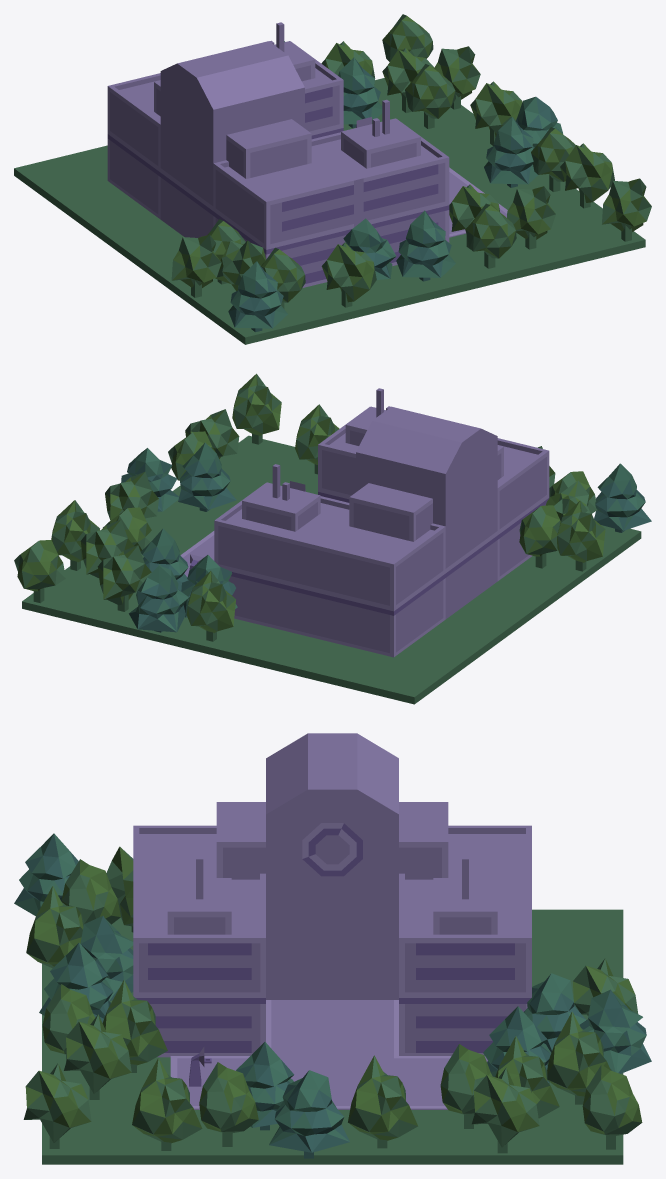
Rendered from School.fbx.
3 renders of one model, top to bottom at view 1: azimuth 30°, elevation 25°; view 2: azimuth 150°, elevation 25°; view 3: azimuth 270°, elevation 25°, orthographic. The views are drawn at different scales.
Visible parts, largest first — view 1: School(Ground), School; view 2: School(Ground), School; view 3: School(Ground), School.
Part boxes in pixels (x1,y1,x2,y2): School(Ground): (14, 14, 651, 344); School: (107, 22, 449, 287); School(Ground): (14, 373, 651, 704); School: (214, 388, 549, 657); School(Ground): (14, 833, 651, 1164); School: (133, 733, 531, 1057).
Size of the model in its own units: 192 by 72.98 by 191.
